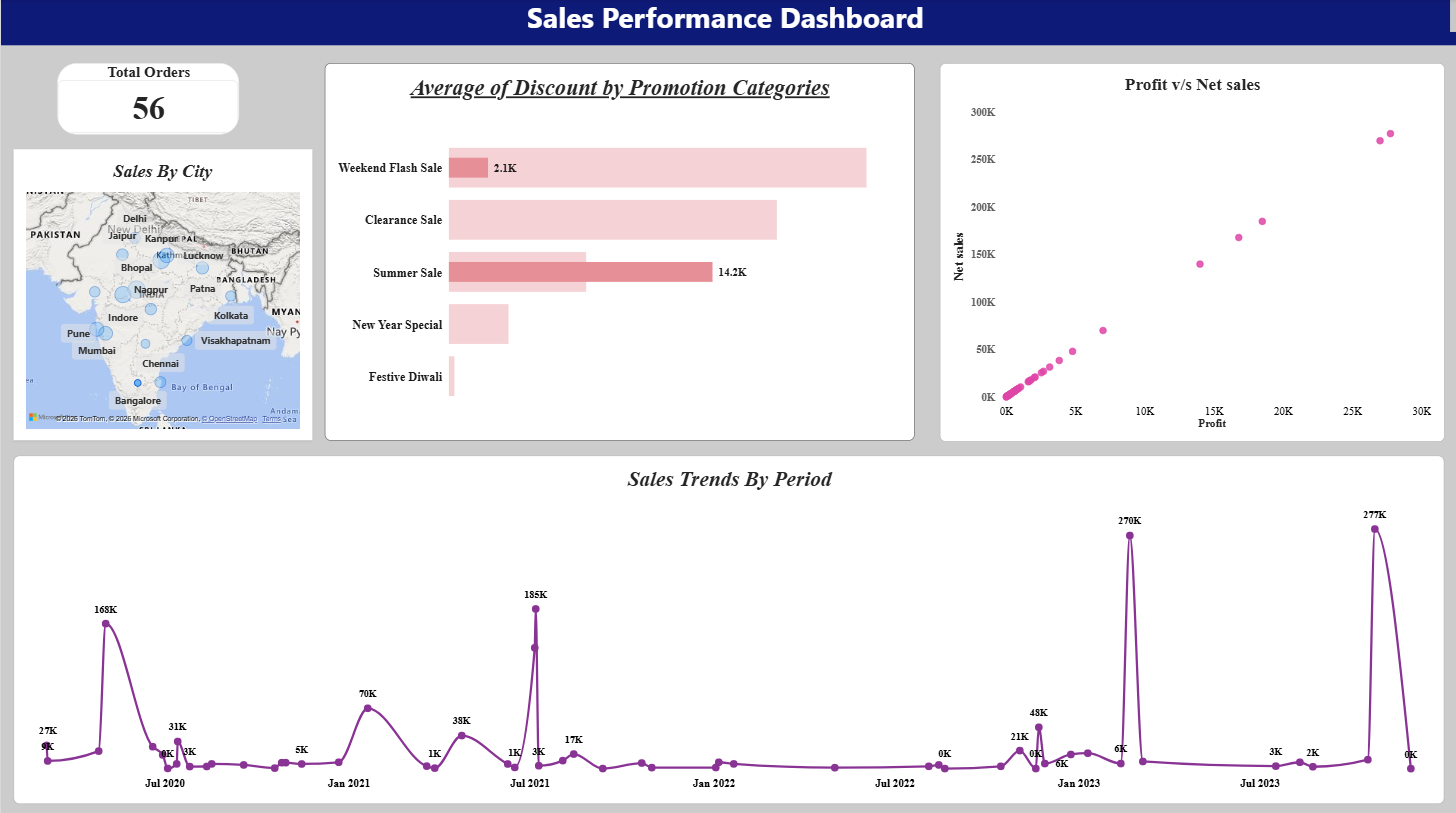

The page's visual inventory and layout, read from the dashboard file:
{"tool":"powerbi","page":{"name":"Overview","canvas":[1920,1080],"ordinal":1},"visuals":[{"type":"lineChart","title":"Sales Trends By Period","fields":{"Category":["Fact Table.Date (dd/mm/yyyy)"],"Y":["Sum(Fact Table.Net sales)"]},"box":[16,604,1888,460],"z":0},{"type":"scatterChart","title":"Profit v/s Net sales","fields":{"X":["Fact Table.Profit"],"Y":["Fact Table.Net sales"]},"box":[1238,86,666,500],"z":1000},{"type":"barChart","title":"Average of Discount by Promotion Categories","fields":{"Category":["Dim Promotion.Promotion Name"],"Y":["Avg(Fact Table.Discount)"]},"box":[428,86,778,498],"z":2000},{"type":"map","title":"Sales By City ","fields":{"Category":["Dim Customers.City"],"Size":["Sum(Fact Table.Net sales)"]},"box":[16,200,394,384],"z":3000},{"type":"cardVisual","title":"Total Orders","fields":{"Data":["Count(Fact Table.Order ID)"]},"box":[74,86,240,94],"z":4000},{"type":"textbox","box":[0,0,1920,62],"z":5000}]}

Visuals, with their boxes in screenshot pixels (x1, y1, x2, y2), scaled from the page's 1920x1080 canvas onto the 1456x813 screenshot:
"Sales Trends By Period" lineChart: {"left": 12, "top": 455, "right": 1444, "bottom": 801}
"Profit v/s Net sales" scatterChart: {"left": 939, "top": 65, "right": 1444, "bottom": 441}
"Average of Discount by Promotion Categories" barChart: {"left": 325, "top": 65, "right": 915, "bottom": 440}
"Sales By City " map: {"left": 12, "top": 151, "right": 311, "bottom": 440}
"Total Orders" cardVisual: {"left": 56, "top": 65, "right": 238, "bottom": 136}
textbox: {"left": 0, "top": 0, "right": 1455, "bottom": 47}
